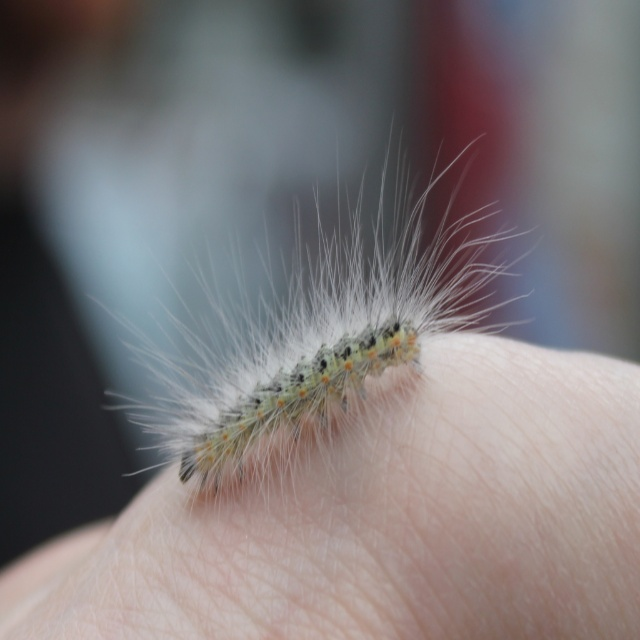Caterpillar: (81, 112, 539, 509)
